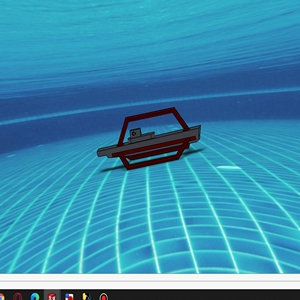submarine: (97, 108, 202, 165)
